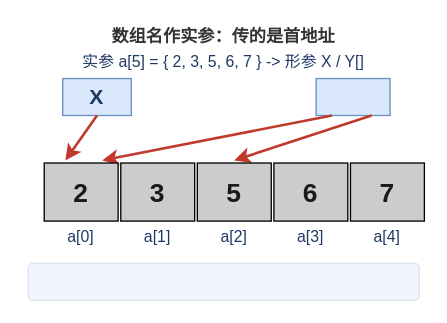
Some shapes in this 447 by 323 pixel diagram are drawn without their labels. Each missing label, with the centre of its shape:
Y[]: point 352,96
数组作参数传首地址 &a[0]，形参与实参共用内存: point 223,281
